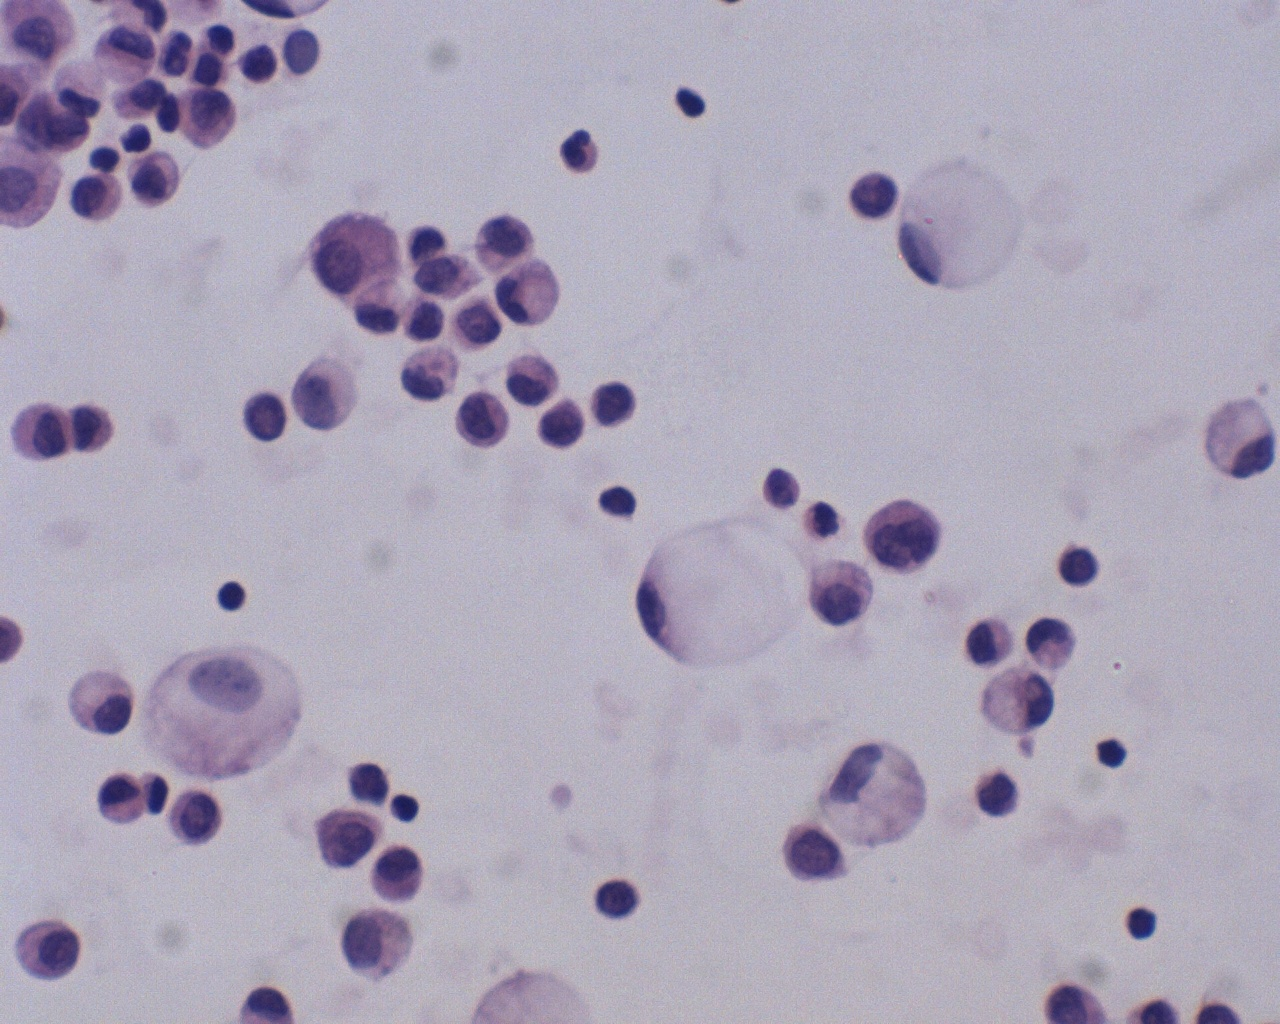ab: (861, 493, 949, 576), (305, 802, 390, 872), (779, 817, 858, 888), (163, 785, 229, 852), (536, 396, 591, 455)
histo: (633, 518, 809, 686), (140, 641, 308, 782), (897, 152, 1032, 298), (827, 732, 929, 854), (1201, 390, 1276, 483), (975, 657, 1057, 738), (491, 259, 571, 331), (45, 52, 115, 120)
lymph: (208, 576, 247, 618), (1124, 899, 1163, 940), (1093, 736, 1128, 775)
meso: (303, 200, 411, 308), (334, 899, 423, 988), (60, 661, 140, 739), (10, 915, 88, 986), (9, 401, 72, 472), (369, 842, 432, 901)
neutro: (560, 122, 601, 179)
